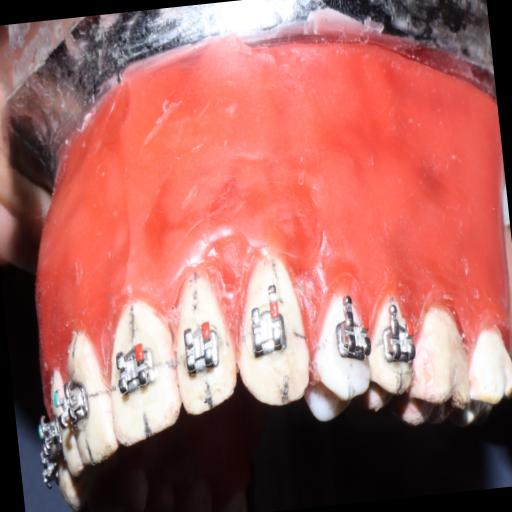incorrect_brace: (246, 299, 292, 358)
